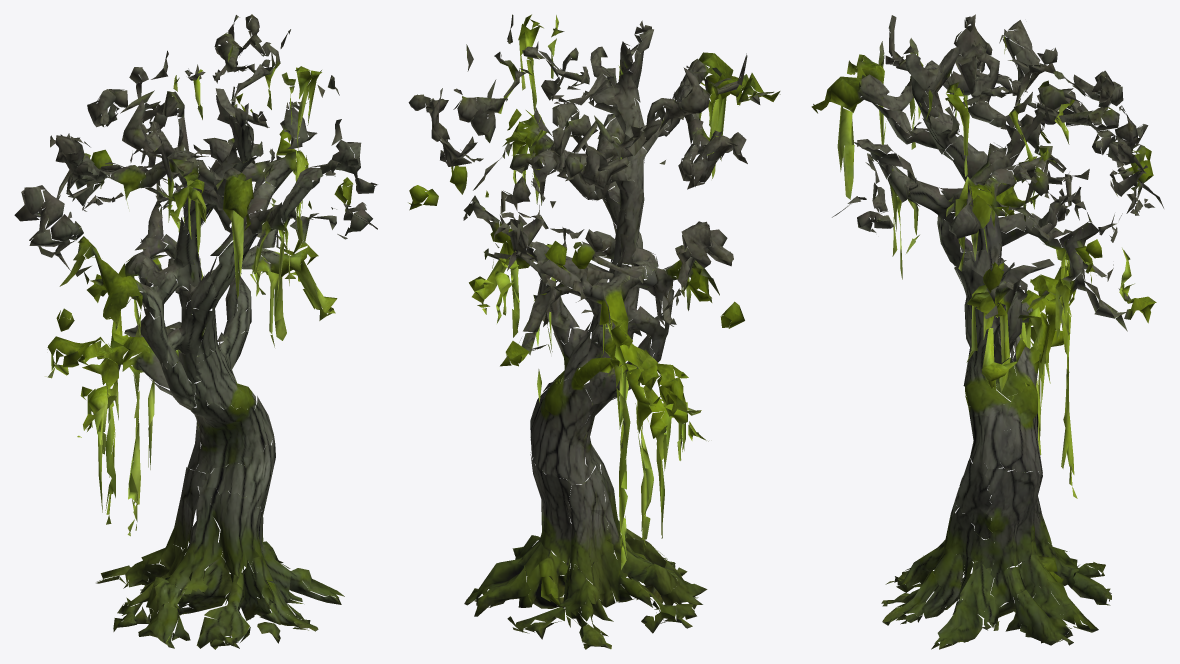
File: briarhold-forest-tree-512.glb
The picture shows the model from 3 angles, left to right: view 1: azimuth 30°, elevation 25°; view 2: azimuth 150°, elevation 25°; view 3: azimuth 270°, elevation 25°; orthographic projection. The views are drawn at different scales.
Visible parts, largest first — view 1: briarhold-forest-tree; view 2: briarhold-forest-tree; view 3: briarhold-forest-tree.
Part boxes in pixels (<box>): briarhold-forest-tree: <box>14,14,377,649</box>; briarhold-forest-tree: <box>408,14,780,649</box>; briarhold-forest-tree: <box>811,14,1163,649</box>.
Bounding box in the file's own units: 5.2 × 8.97 × 5.2.
1 material, 1 textured.
